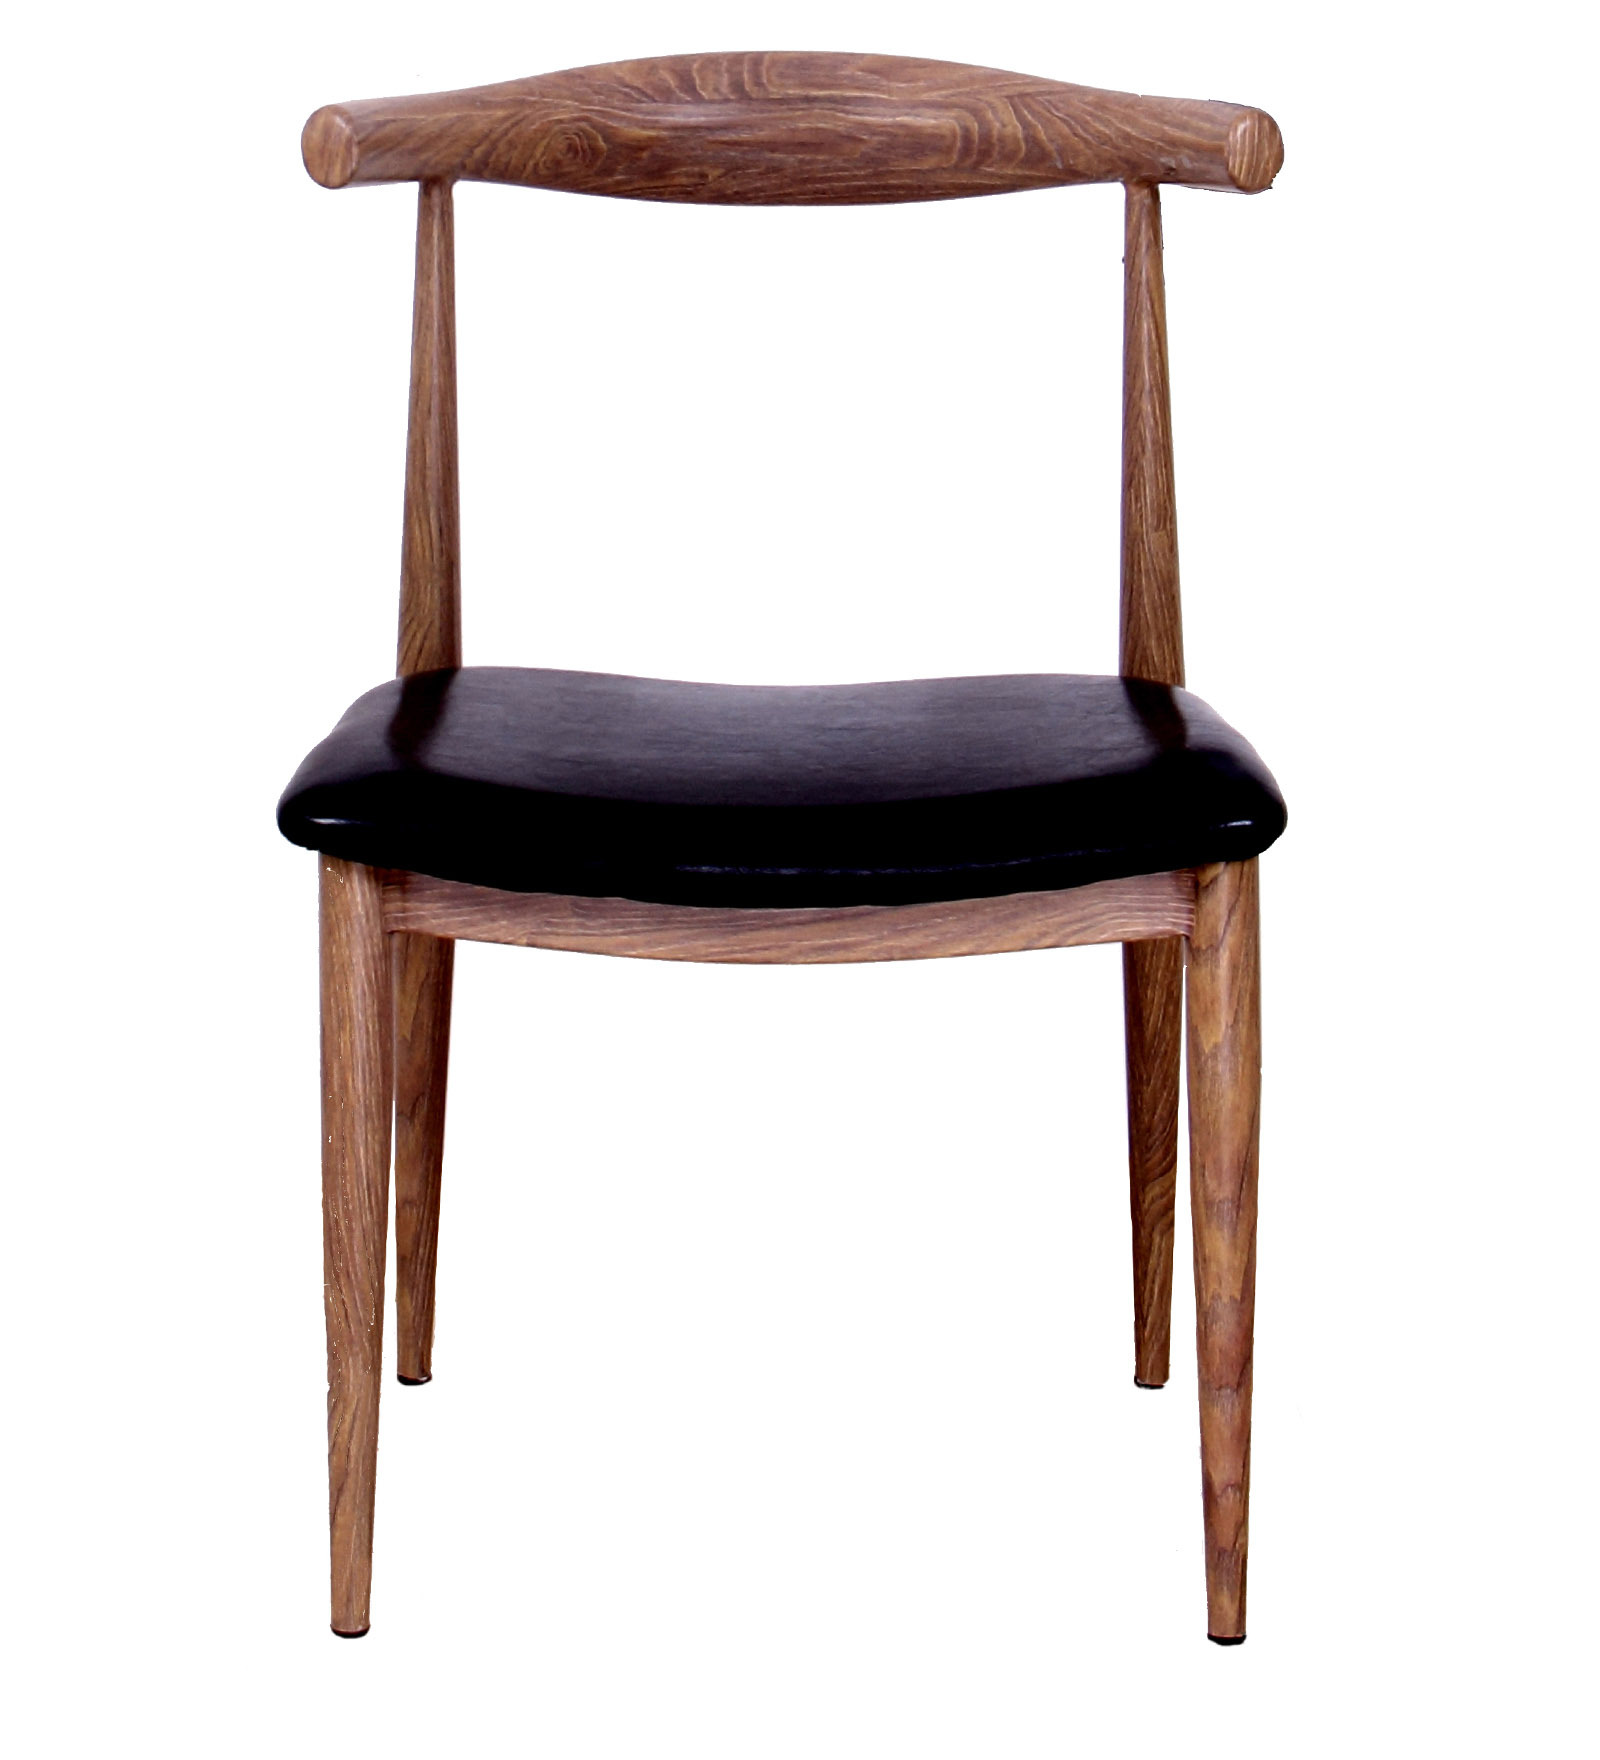Sherman Metal Chair (Set of 2) in Wooden Finish by Bohemiana: (199, 14, 1385, 1703)
